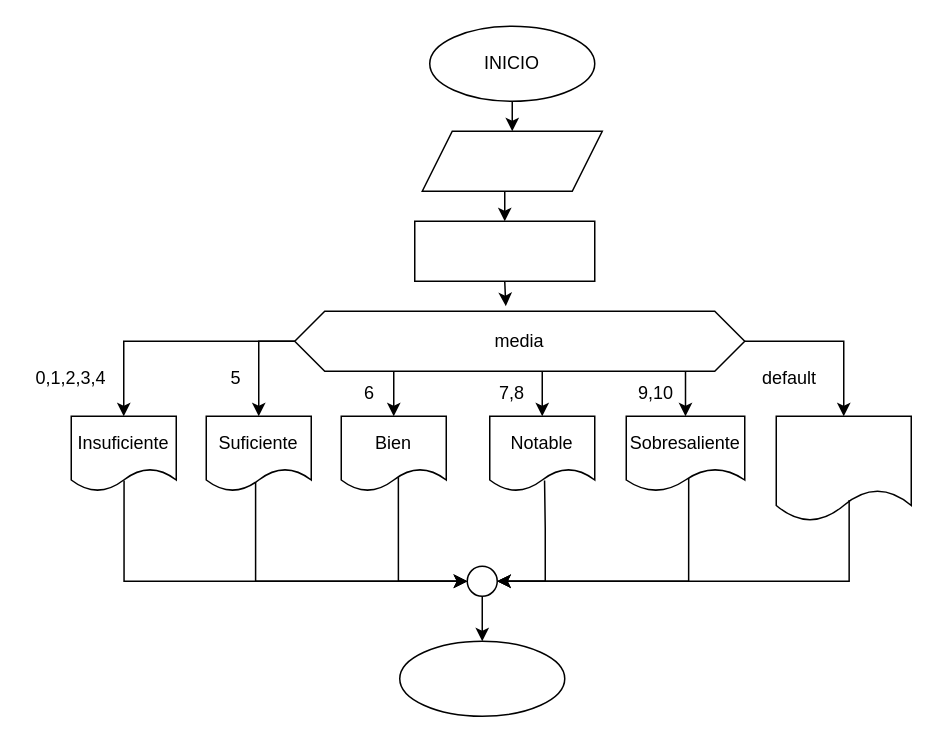
This 938x743 diagram has some shape labels left out. The shapes that lost their labels are listed below. From the top down, each one's box as (x1, y1, x2, y2) in pixels, then its label:
(421, 130, 602, 191): n1,n2,n3
(413, 220, 595, 281): media=(n1+n2+n3)/3
(775, 415, 911, 521): "La opción escogida no es valida"
(398, 640, 565, 716): FIN
